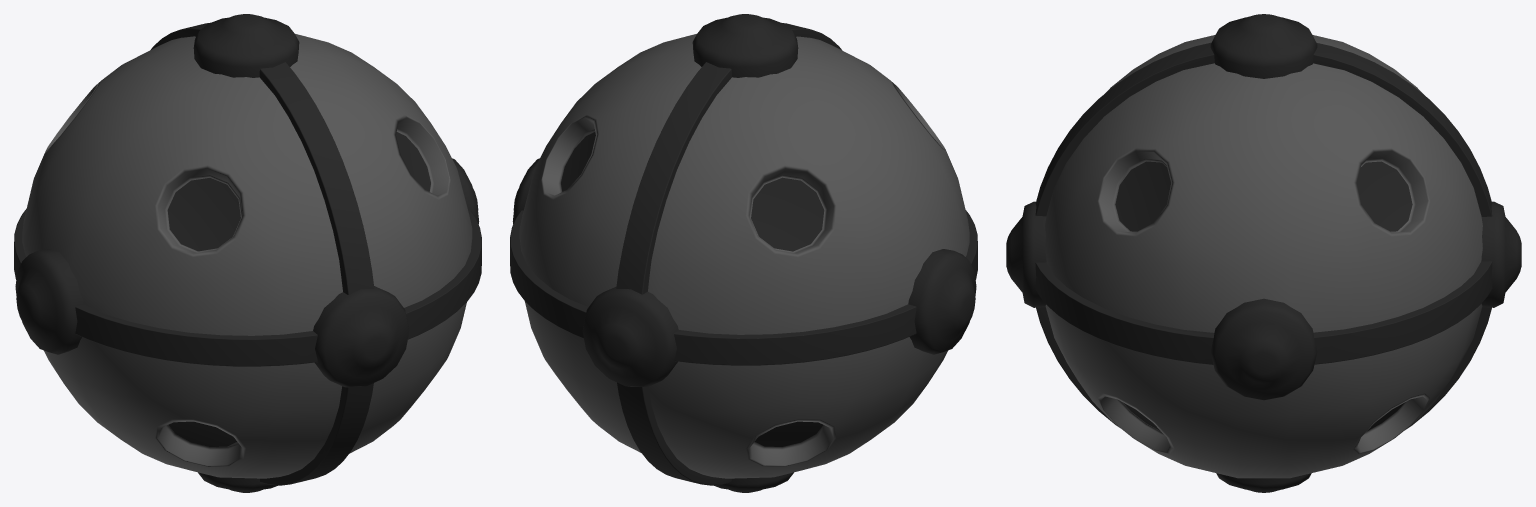
The model's file is _Static_mine.fbx.
The picture shows the model from 3 angles, left to right: view 1: azimuth 30°, elevation 25°; view 2: azimuth 150°, elevation 25°; view 3: azimuth 270°, elevation 25°; orthographic projection.
Visible parts, largest first — view 1: Static_mine; view 2: Static_mine; view 3: Static_mine.
Boxes of the visible parts, x1,y1,x2,y2 form: Static_mine: (14,14,481,492); Static_mine: (510,14,977,492); Static_mine: (1006,14,1521,492).
Bounding box in the file's own units: 177 × 177 × 177.
1 material, 1 textured.
